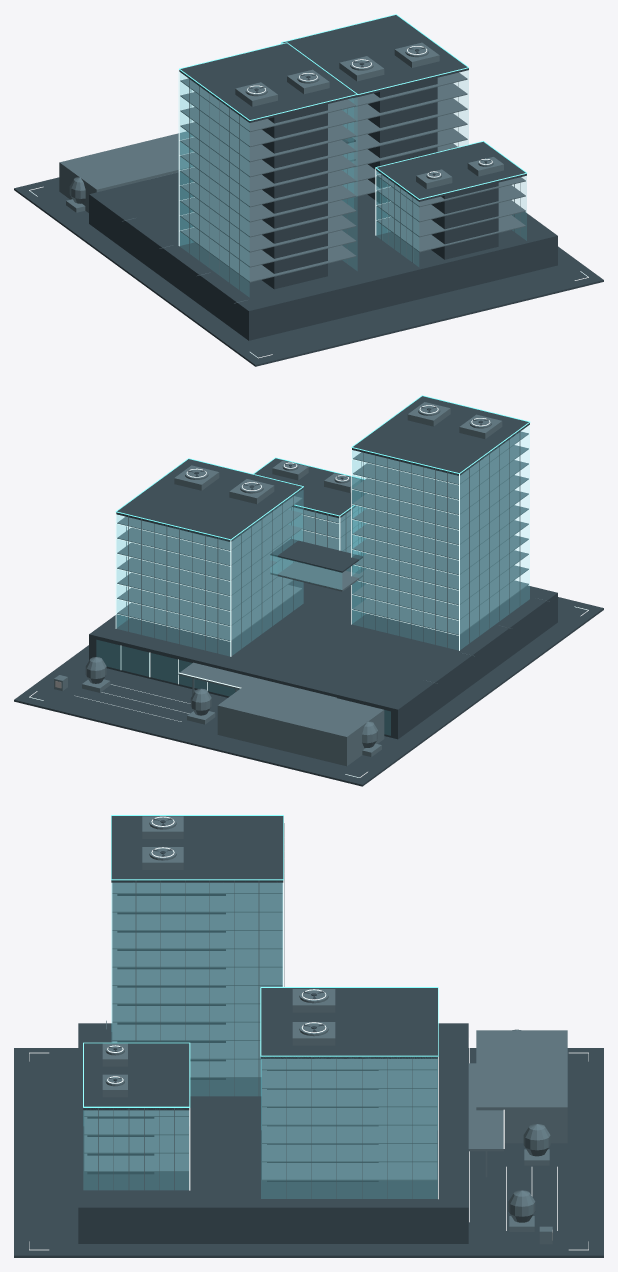
The model's file is commercial_buildings.glb.
3 renders of one model, top to bottom at view 1: azimuth 30°, elevation 25°; view 2: azimuth 150°, elevation 25°; view 3: azimuth 270°, elevation 25°, orthographic. The views are drawn at different scales.
Visible parts, largest first — view 1: commercial_buildings_graphite, commercial_buildings_graphite_light, commercial_buildings_glass, commercial_buildings_edge, commercial_buildings_white; view 2: commercial_buildings_graphite, commercial_buildings_graphite_light, commercial_buildings_glass, commercial_buildings_white, commercial_buildings_edge; view 3: commercial_buildings_graphite, commercial_buildings_graphite_light, commercial_buildings_glass, commercial_buildings_edge, commercial_buildings_white.
Part boxes in pixels (x1,y1,x2,y2): commercial_buildings_graphite: (14,15,603,366); commercial_buildings_graphite_light: (59,42,525,303); commercial_buildings_glass: (179,70,526,296); commercial_buildings_edge: (179,14,527,199); commercial_buildings_white: (29,43,588,358); commercial_buildings_graphite: (14,396,603,786); commercial_buildings_graphite_light: (54,402,549,766); commercial_buildings_glass: (97,425,529,735); commercial_buildings_white: (29,405,588,777); commercial_buildings_edge: (115,395,530,540); commercial_buildings_graphite: (14,816,603,1257); commercial_buildings_graphite_light: (84,816,567,1244); commercial_buildings_glass: (83,883,437,1198); commercial_buildings_edge: (83,815,438,1107); commercial_buildings_white: (29,816,588,1250).
Size of the model in its own units: 97 by 57.91 by 116.
